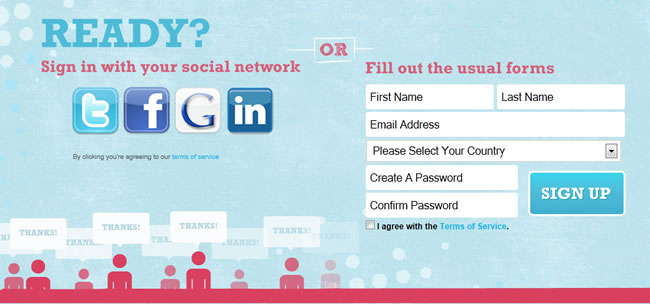_form_: (346, 16, 650, 304)
button: (527, 170, 626, 217)
checkbox: (366, 220, 375, 230)
checkbox_with_label: (365, 221, 512, 231)
field: (364, 111, 627, 138), (366, 139, 621, 162), (365, 191, 519, 219), (365, 163, 518, 191), (365, 83, 496, 111), (496, 83, 626, 110)
